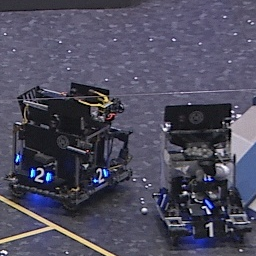Blue: (28, 166, 53, 185), (91, 167, 111, 185)
Dead: (190, 220, 230, 240), (187, 202, 227, 216), (156, 189, 174, 213)
Robot: (6, 79, 136, 212), (147, 98, 256, 253)
